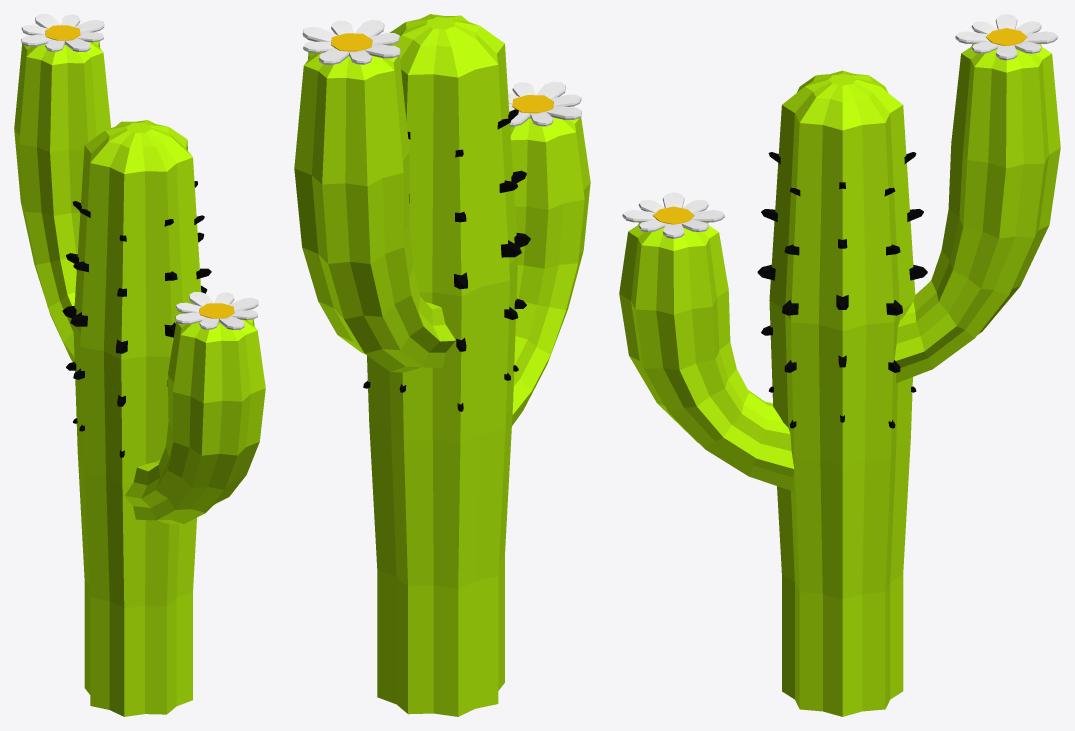
The model's file is Cardon01_02Brazos_Flor_Blanca.fbx.
The picture shows the model from 3 angles, left to right: view 1: azimuth 30°, elevation 25°; view 2: azimuth 150°, elevation 25°; view 3: azimuth 270°, elevation 25°; orthographic projection. The views are drawn at different scales.
Visible parts, largest first — view 1: Cactus, Flor_Blanca, Espinas; view 2: Cactus, Flor_Blanca, Espinas; view 3: Cactus, Flor_Blanca, Espinas.
Part boxes in pixels (box(x1,y1,x2,y2)): Cactus: box(14, 41, 265, 716); Flor_Blanca: box(21, 14, 258, 329); Espinas: box(62, 181, 211, 457); Cactus: box(294, 14, 590, 716); Flor_Blanca: box(302, 20, 581, 126); Espinas: box(363, 109, 530, 411); Cactus: box(619, 44, 1060, 716); Flor_Blanca: box(622, 14, 1057, 238); Espinas: box(757, 152, 927, 428).
Bounding box in the file's own units: 53.18 × 226 × 138.
